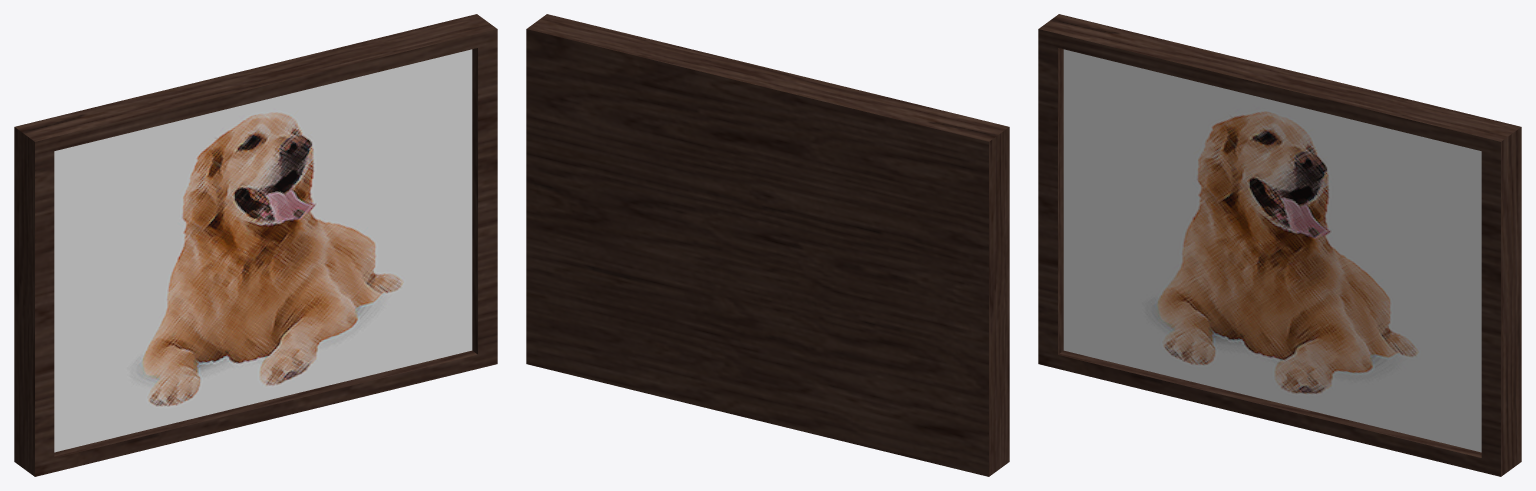
The model's file is PhotoFrame_1.fbx.
3 renders of one model, left to right at view 1: azimuth 30°, elevation 25°; view 2: azimuth 150°, elevation 25°; view 3: azimuth 330°, elevation 25°, orthographic.
Parts seen in each view (by area): view 1: PhotoFrame; view 2: PhotoFrame; view 3: PhotoFrame.
Part boxes in pixels (<box>): PhotoFrame: <box>14,14,497,476</box>; PhotoFrame: <box>526,14,1009,476</box>; PhotoFrame: <box>1038,14,1521,476</box>.
Bounding box in the file's own units: 13 × 9 × 1.
